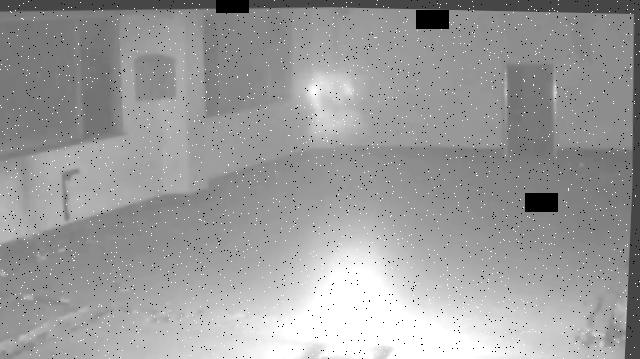fire: (300, 271, 406, 346)
smoke: (281, 59, 379, 149)
